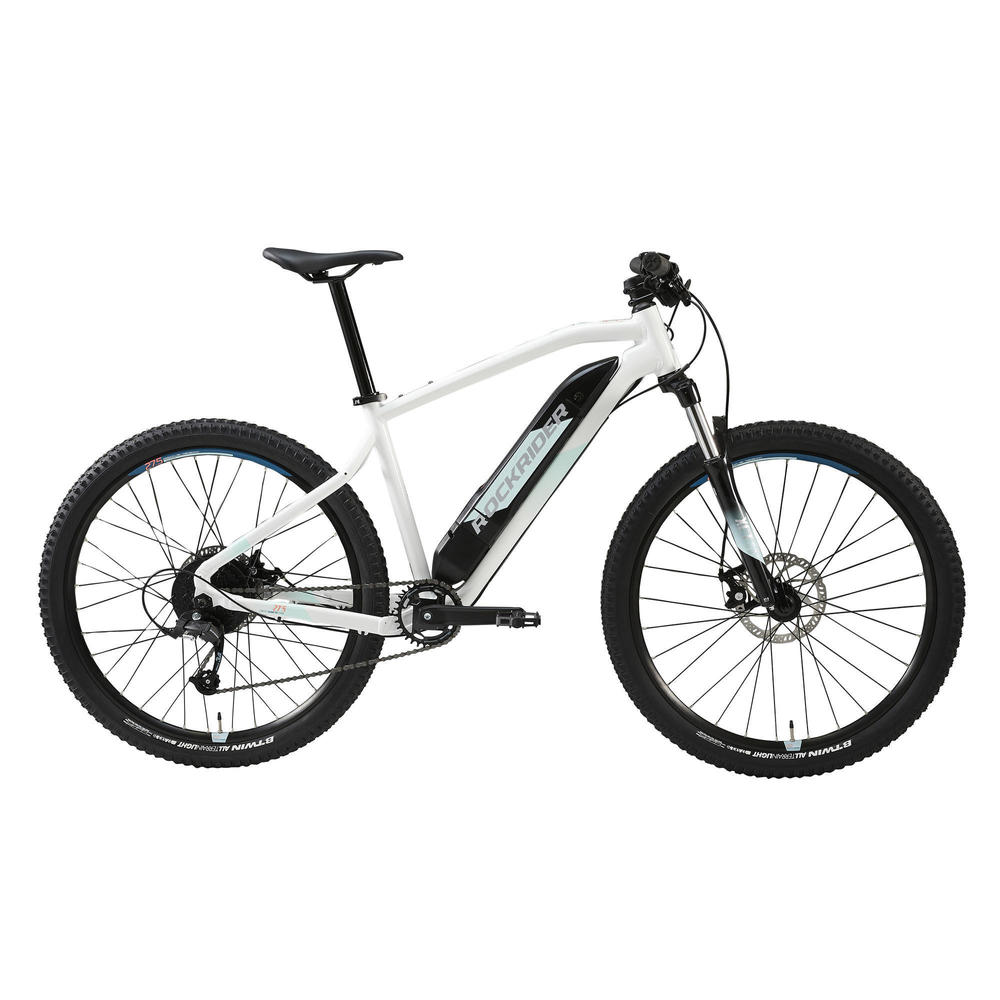MountainBike: (17, 216, 984, 803)
